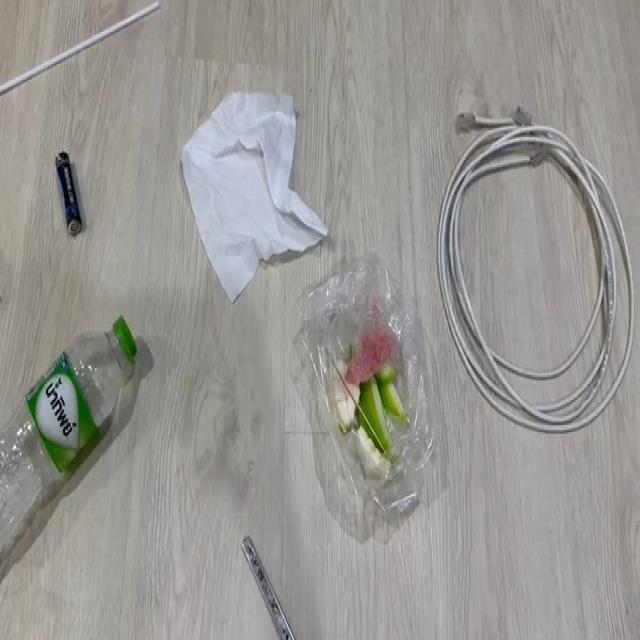Anorganik: (0, 358, 198, 556), (188, 78, 326, 302), (0, 24, 161, 89), (238, 531, 304, 640)
B3: (450, 123, 622, 424), (305, 289, 450, 528), (58, 133, 92, 238)
